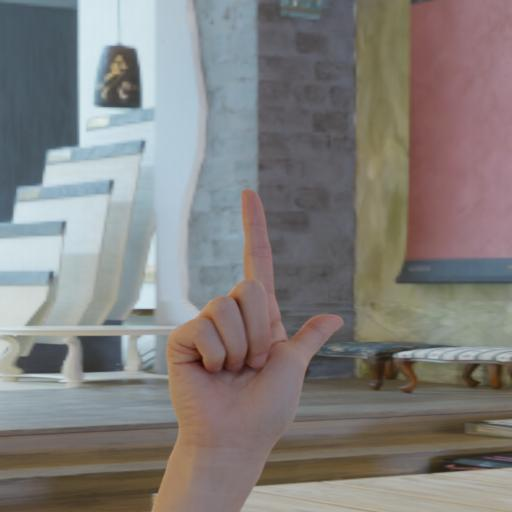L: (94, 129, 429, 512)
